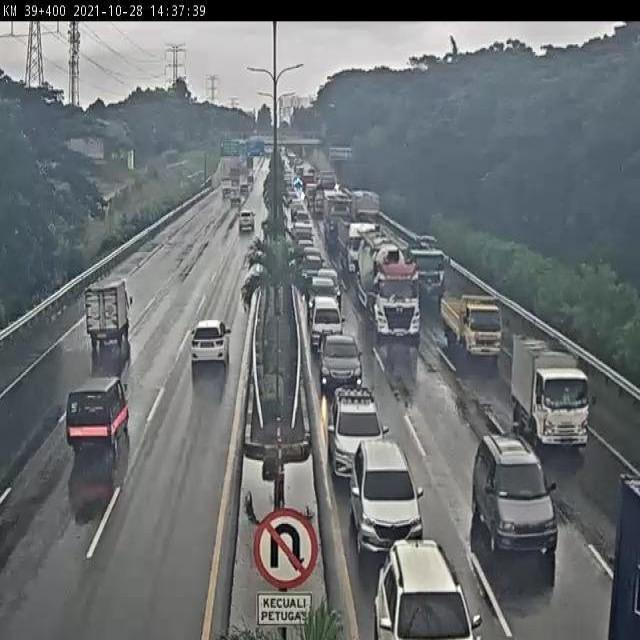big truck: (352, 233, 417, 336), (398, 216, 448, 299)
car: (369, 538, 483, 640), (470, 440, 560, 556), (58, 372, 145, 471), (345, 441, 426, 544), (326, 382, 391, 470), (313, 326, 365, 391), (182, 314, 231, 374), (299, 291, 346, 344), (233, 209, 259, 239)
small truck: (509, 325, 597, 444), (431, 280, 498, 356), (76, 275, 138, 344)
